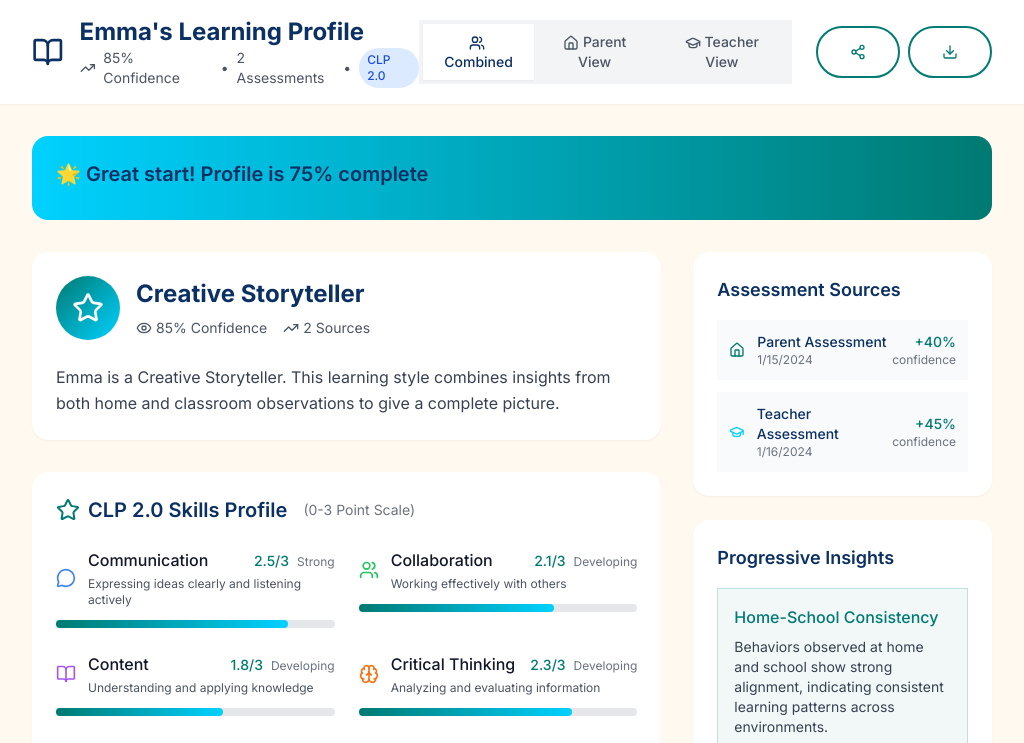
it: ContextualResultsPage › View Context Switching › should switch to parent view and show parent-specific content
This screenshot has width=1024, height=743.
Click the button "Parent View".
click(595, 52)  # box [534,24,656,80]
(page scrolled)
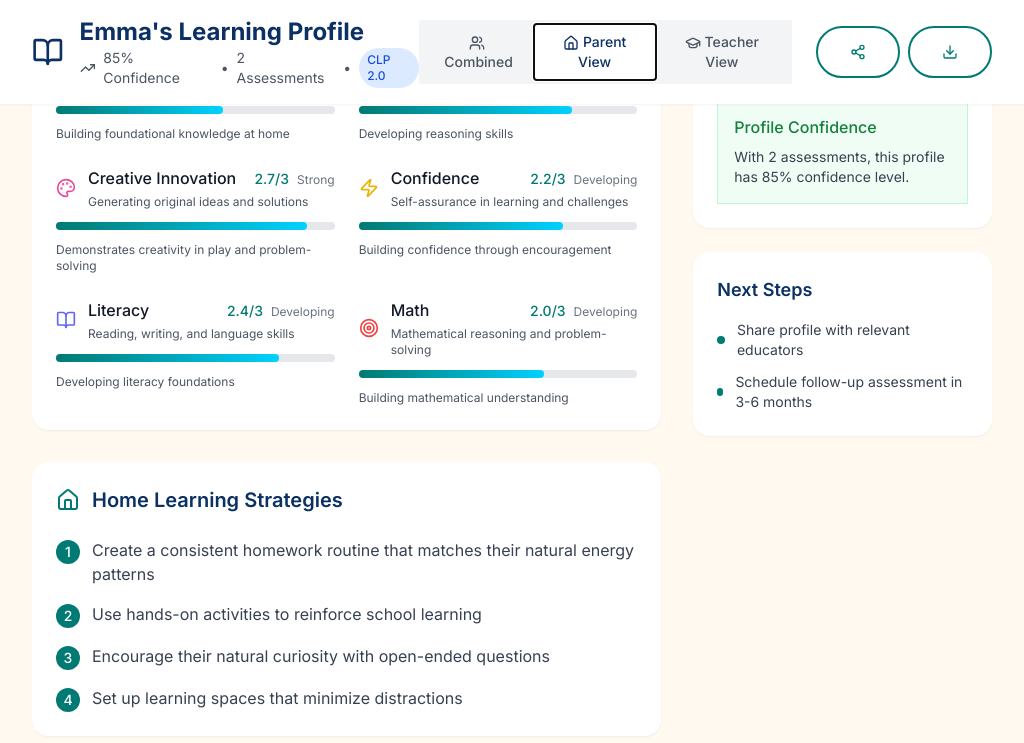
Expected: the heading "Home Learning Strategies" is shown, [92,486,343,514]
Expected: the text "Create a consistent homework routine" is shown, [92,540,634,584]
